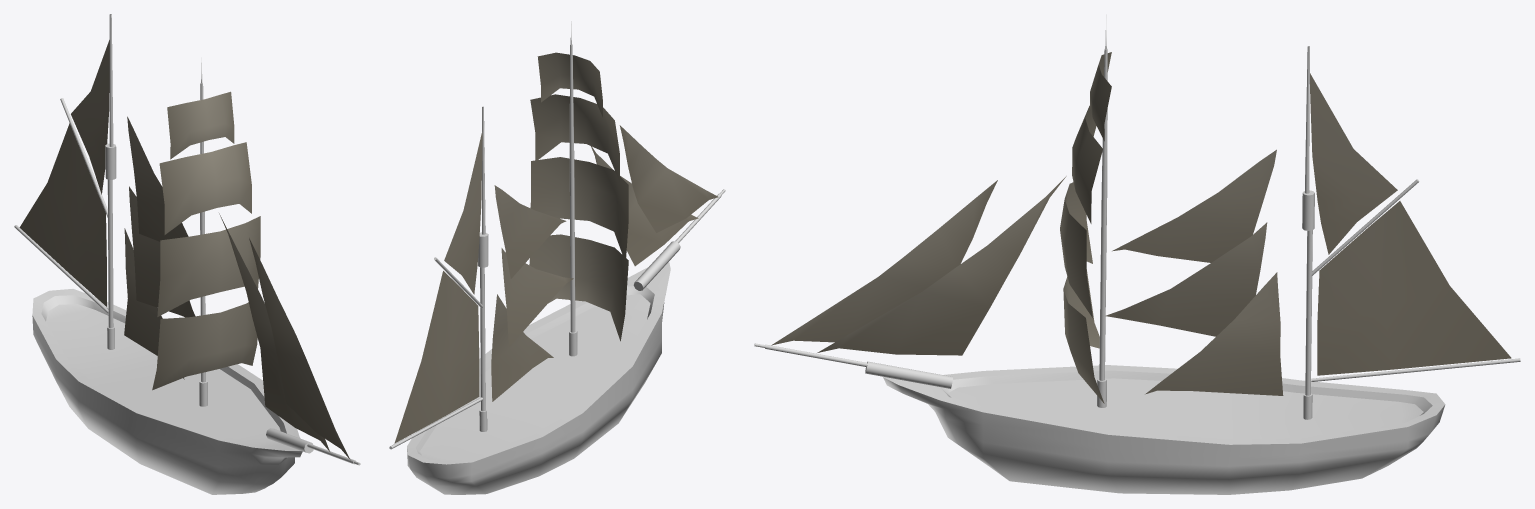
3 views of the same model, side by side, from view 1: azimuth 30°, elevation 25°; view 2: azimuth 150°, elevation 25°; view 3: azimuth 270°, elevation 25° (orthographic). The views are drawn at different scales.
Visible parts, largest first — view 1: Dblsided.001; view 2: Dblsided.001; view 3: Dblsided.001.
Boxes of the visible parts, box(x1,y1,x2,y2) form: Dblsided.001: box(14, 14, 360, 494); Dblsided.001: box(389, 21, 725, 494); Dblsided.001: box(754, 14, 1520, 494).
Bounding box in the file's own units: 0.1135 × 0.3237 × 0.5.
